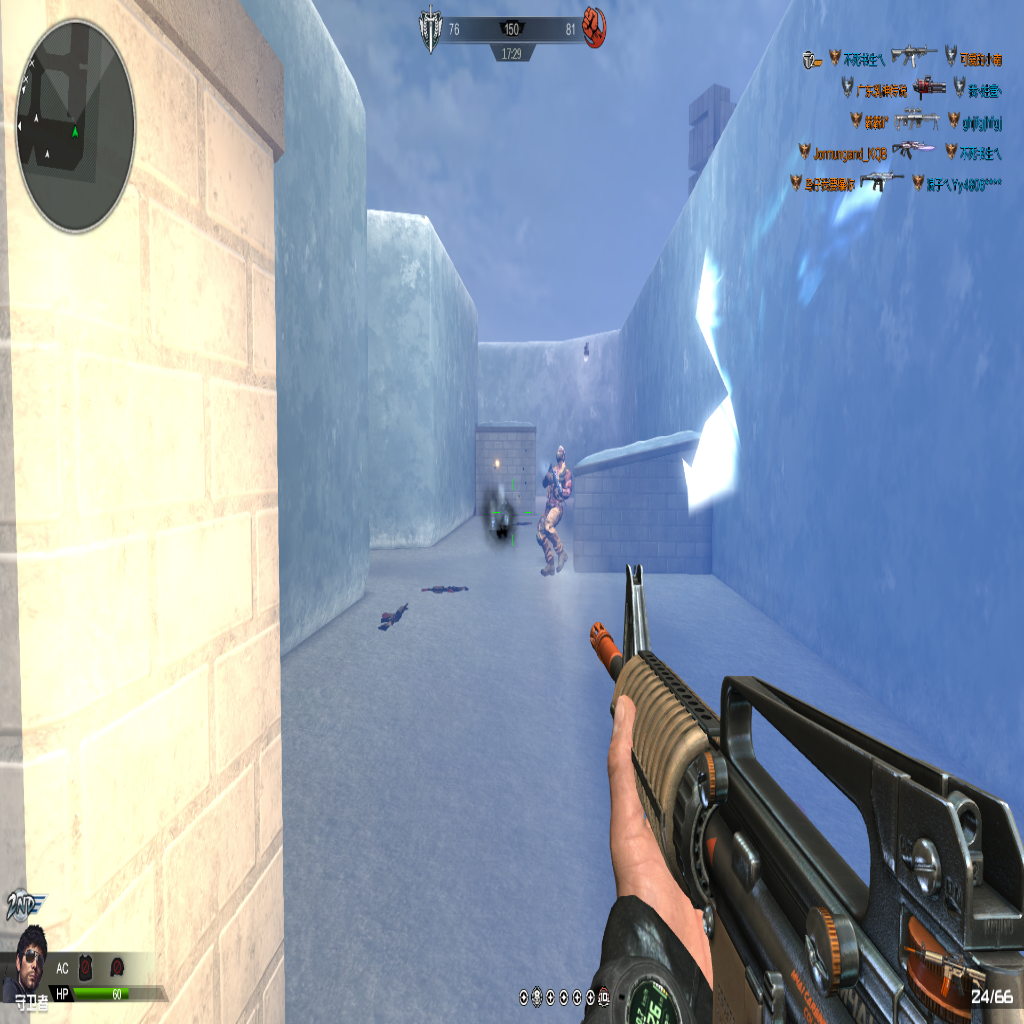tt: (536, 445, 571, 576)
